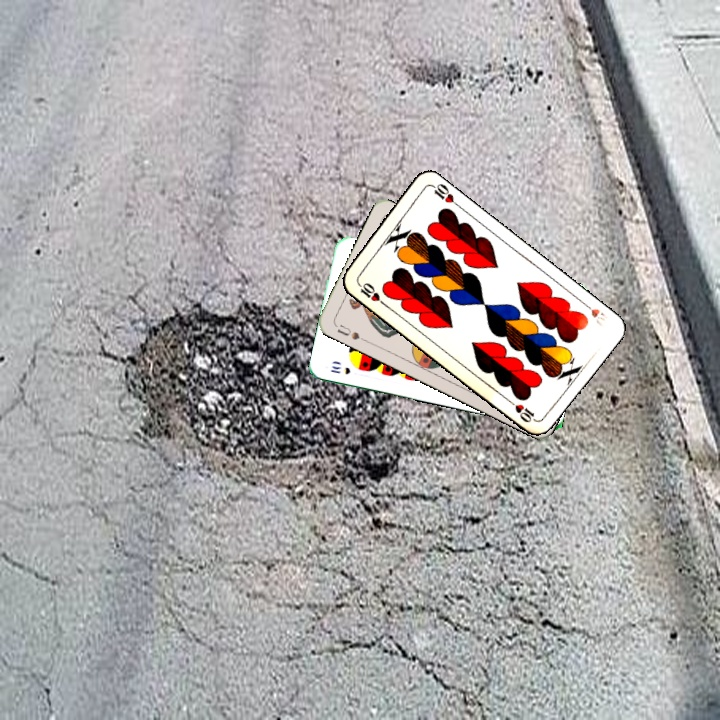H10: (578, 297, 610, 330), (353, 278, 387, 308)
S10: (327, 362, 353, 377)
SU: (331, 320, 369, 344)
